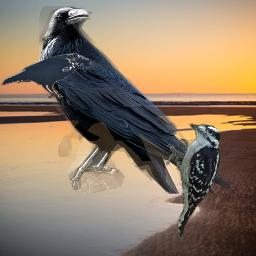Crow: (39, 6, 236, 194), (0, 53, 91, 100)
Woodpecker: (166, 122, 227, 237)
